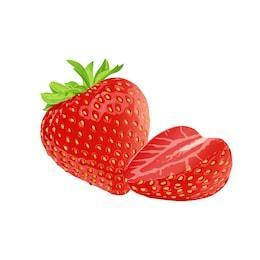Fresa: (37, 73, 155, 202)
